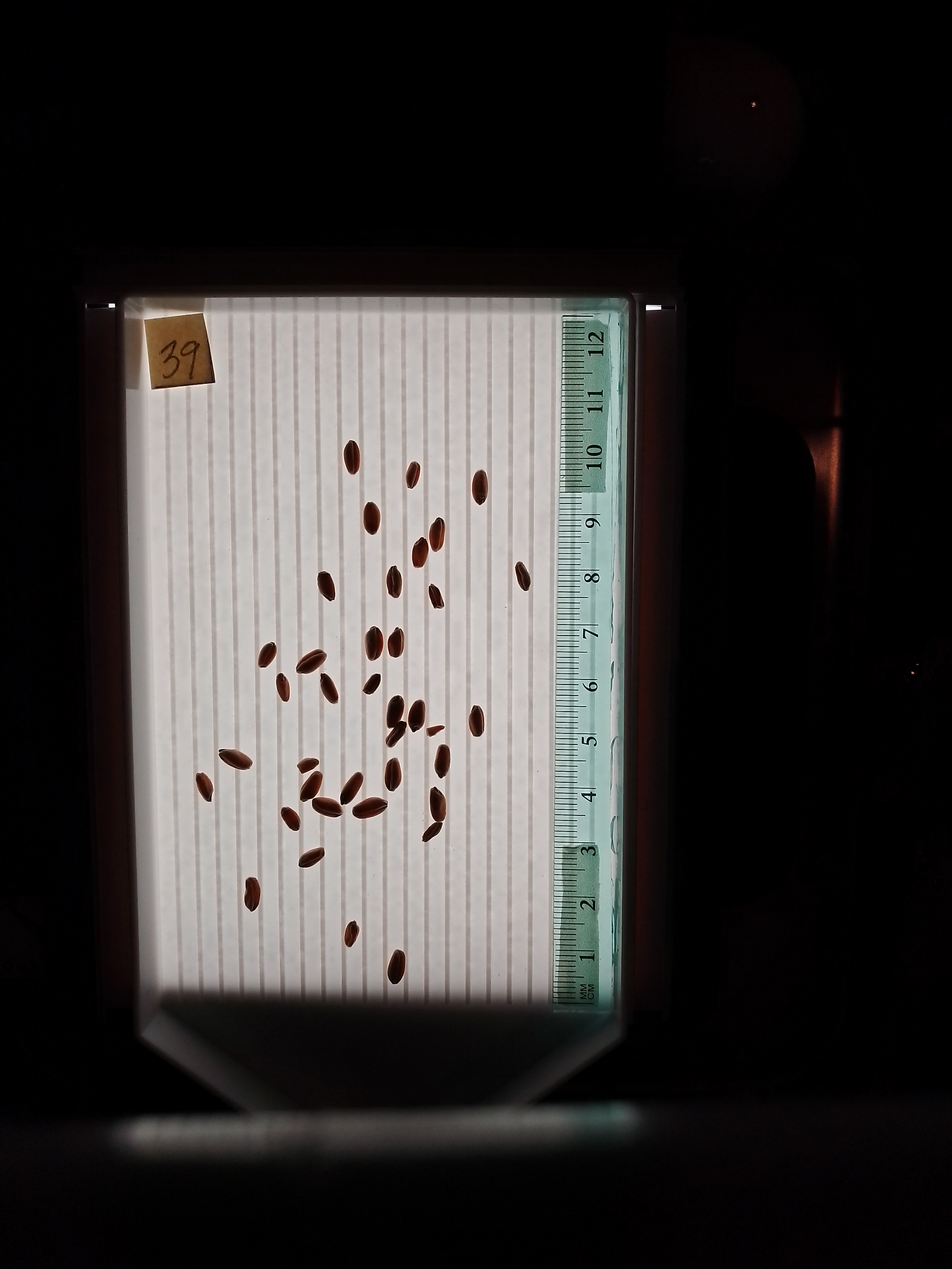seed mask: (353, 797, 387, 819), (340, 773, 363, 804), (220, 749, 252, 771), (297, 650, 326, 674), (300, 772, 322, 801), (365, 627, 384, 660), (472, 470, 489, 505), (388, 951, 406, 984), (314, 797, 342, 818), (385, 758, 402, 792), (408, 700, 426, 732), (320, 674, 339, 703), (195, 773, 214, 802), (344, 441, 360, 475), (429, 518, 445, 552), (363, 503, 380, 535), (430, 788, 446, 822), (245, 878, 261, 911), (387, 696, 404, 727), (468, 706, 485, 737), (434, 744, 450, 776), (412, 538, 429, 568), (318, 572, 335, 600), (299, 849, 324, 868), (515, 562, 531, 591), (281, 807, 300, 831), (388, 629, 404, 657), (387, 723, 406, 746), (387, 567, 401, 597), (276, 674, 290, 702), (258, 644, 275, 667), (406, 462, 420, 488), (429, 586, 444, 609), (298, 756, 318, 773), (344, 922, 358, 946), (364, 674, 380, 694)
